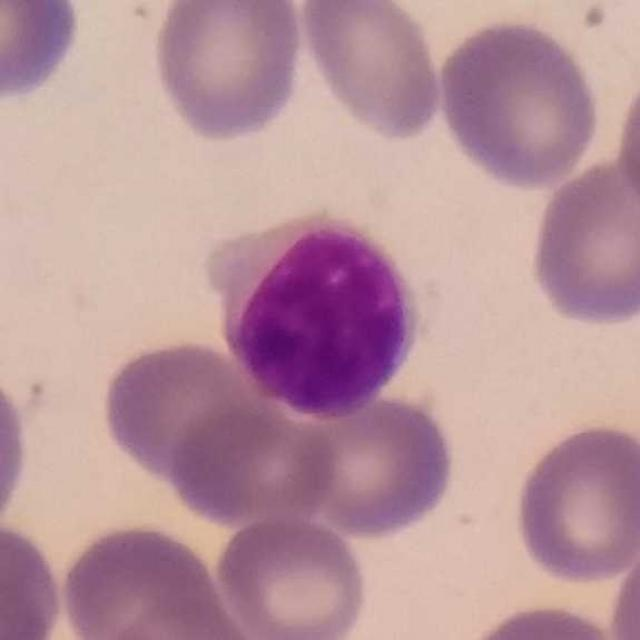Lymphocyte: (198, 207, 426, 420)
RBC: (432, 14, 604, 192), (285, 385, 460, 542), (97, 334, 270, 487), (166, 392, 340, 530), (147, 0, 310, 144), (292, 1, 448, 144), (508, 418, 640, 587), (55, 518, 229, 640), (524, 149, 640, 331), (212, 512, 373, 640), (0, 0, 86, 107), (0, 516, 68, 640), (86, 595, 262, 640), (453, 599, 628, 640), (0, 355, 35, 529), (611, 54, 640, 228), (604, 532, 640, 640)
